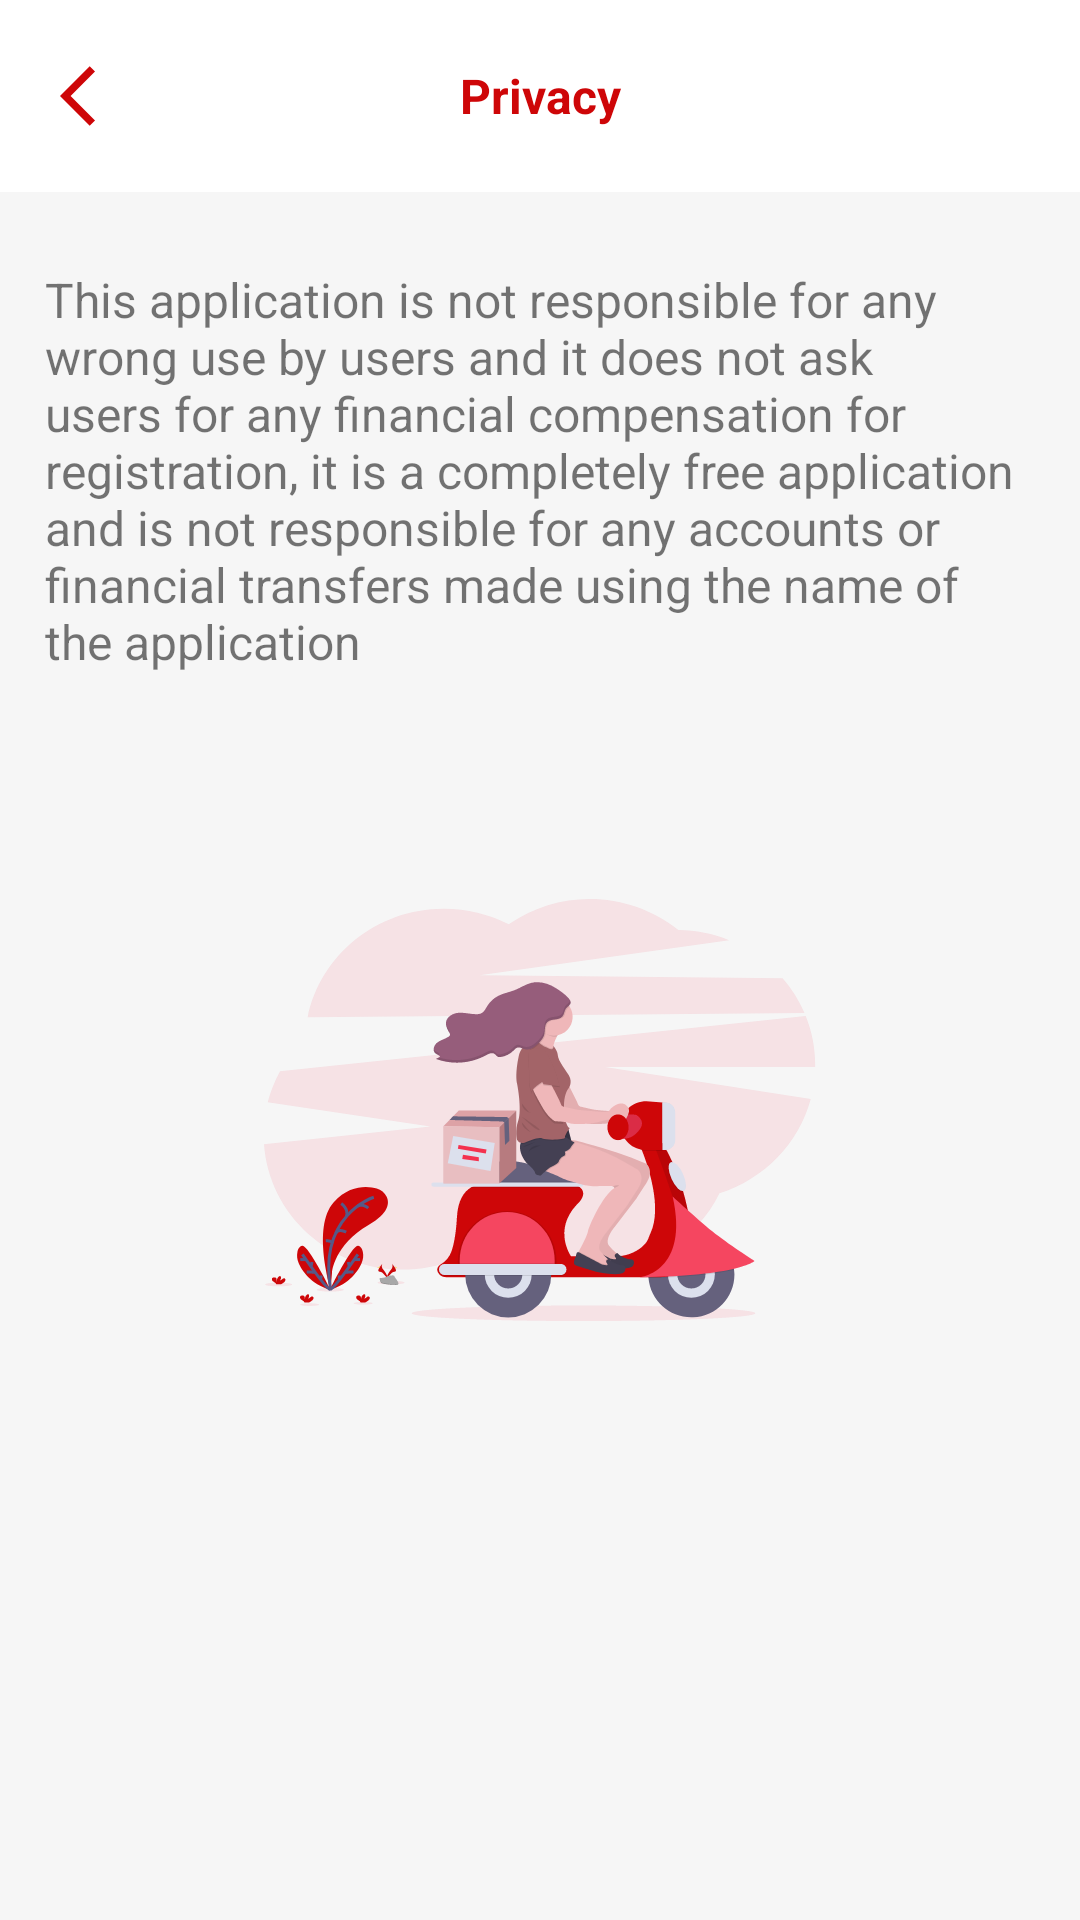

Where to tap for icons on this 1080*1920 app screen, as point (x, y):
back arrow: point (77, 96)
